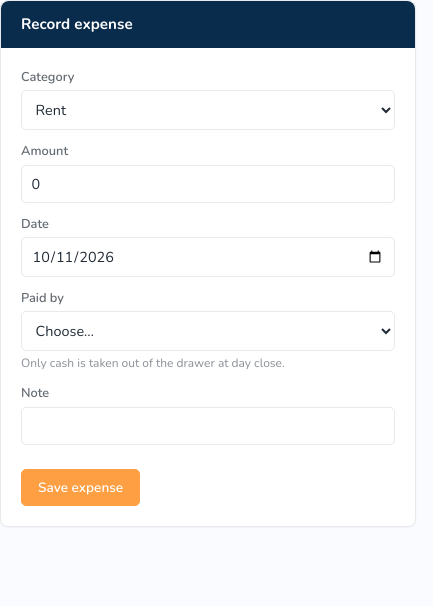
ExpenseForm › requires an amount above zero
Click the button "Save expense" at [81, 487], box 21,469 -> 140,506
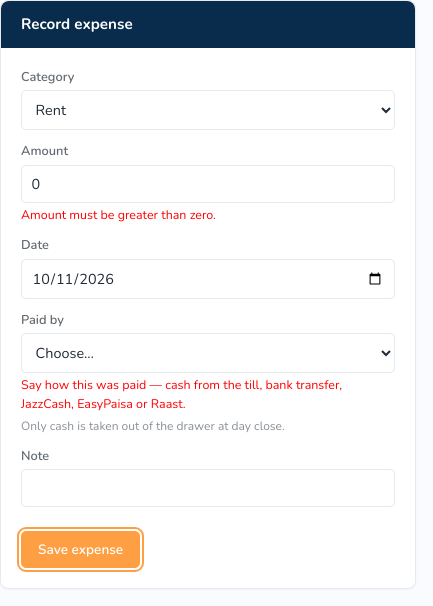
Now the text "Amount must be greater than zero." is shown, box 21,206 -> 216,223
